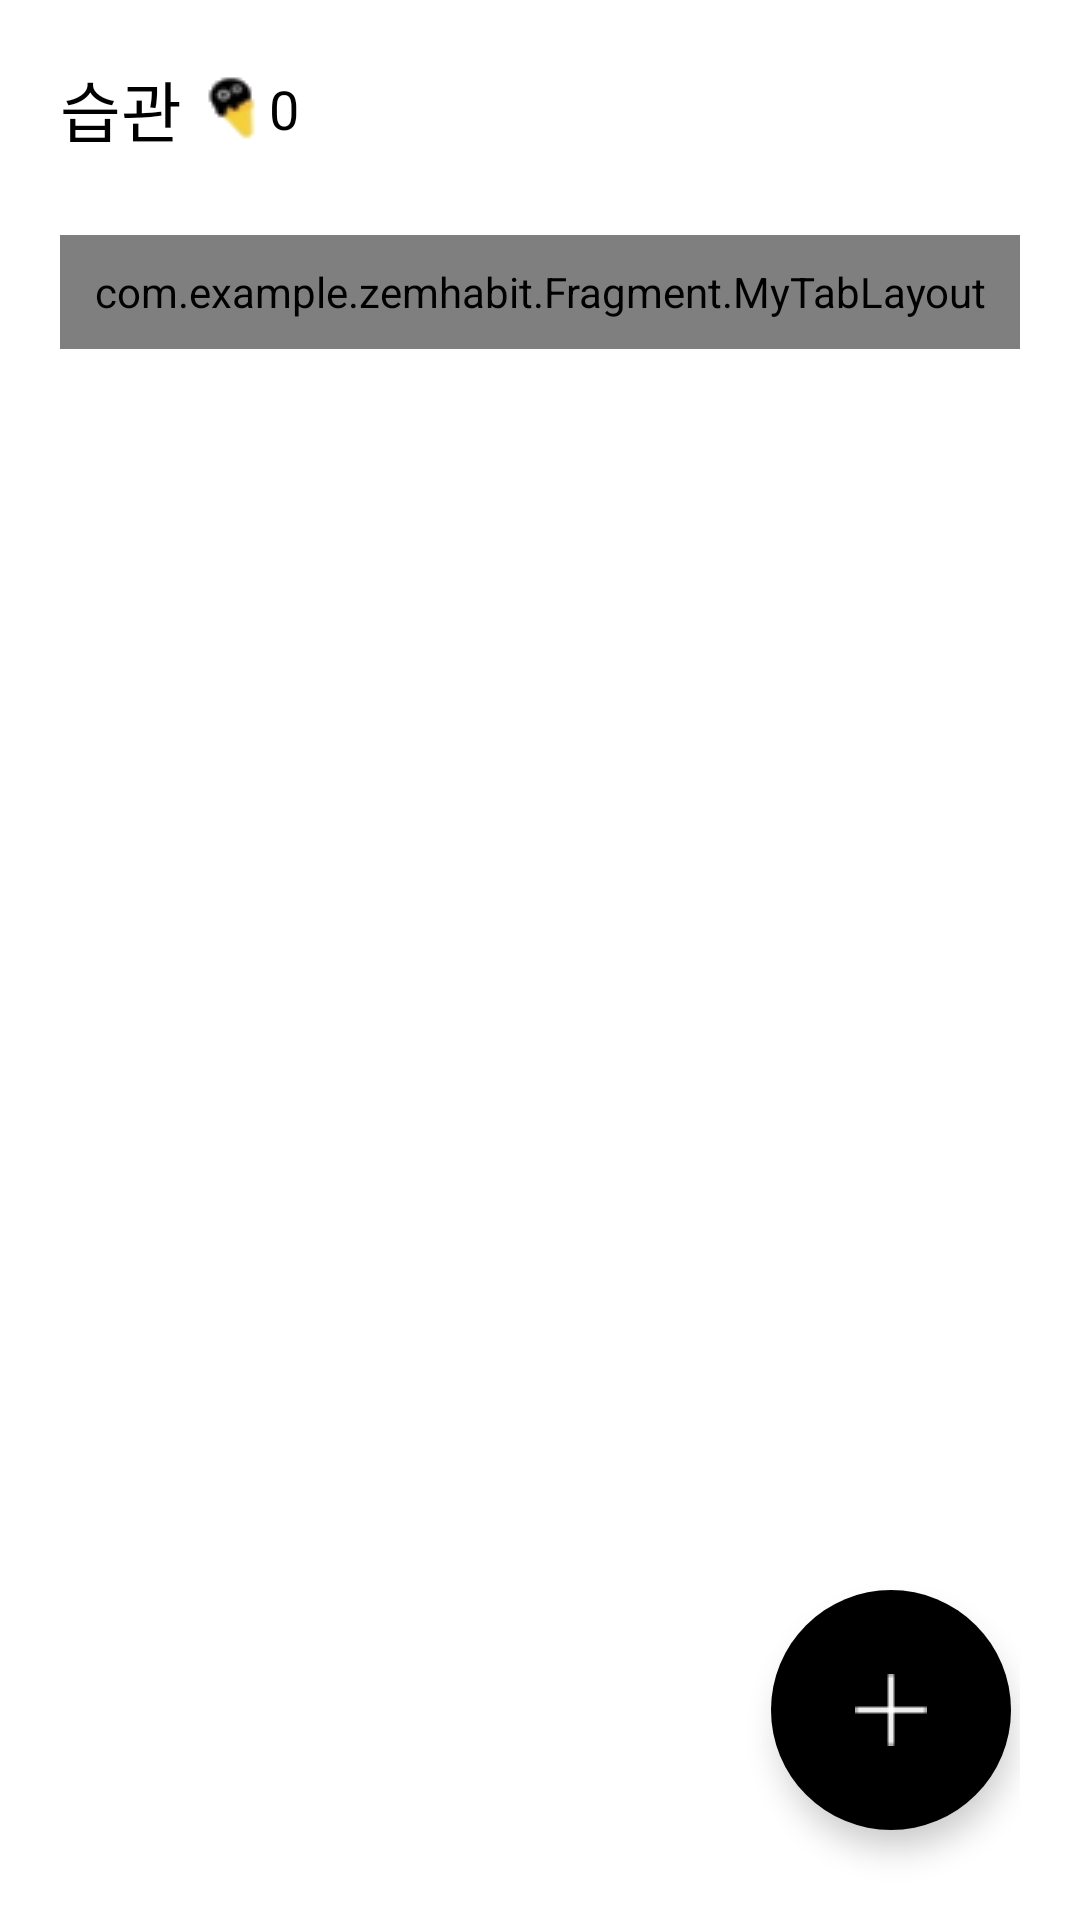

Screen size 1080px x 1920px. Icon name, then its box in pixels as [x1,y1,x2,y2]:
Add: [771,1590,1011,1830]
